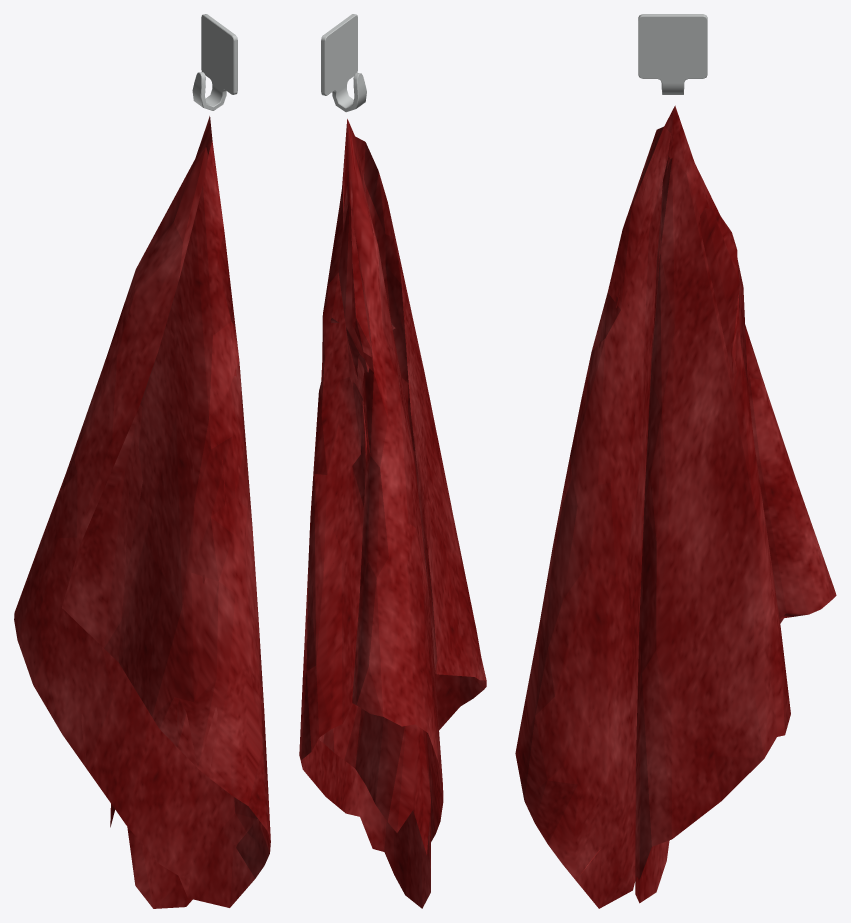
File: towel_hook.glb
3 views of the same model, side by side, from view 1: azimuth 30°, elevation 25°; view 2: azimuth 150°, elevation 25°; view 3: azimuth 270°, elevation 25° (orthographic). The views are drawn at different scales.
Parts seen in each view (by area): view 1: towel, towel_hook_; view 2: towel, towel_hook_; view 3: towel, towel_hook_.
Part boxes in pixels (left/top/right/bottom): towel: left=14, top=116, right=270, bottom=908; towel_hook_: left=192, top=14, right=237, bottom=110; towel: left=299, top=119, right=486, bottom=908; towel_hook_: left=321, top=14, right=366, bottom=112; towel: left=515, top=105, right=836, bottom=908; towel_hook_: left=638, top=14, right=707, bottom=94.
Size of the model in its own units: 0.0806 by 0.4508 by 0.1433.
Materials: 2 (2 with a texture image).
